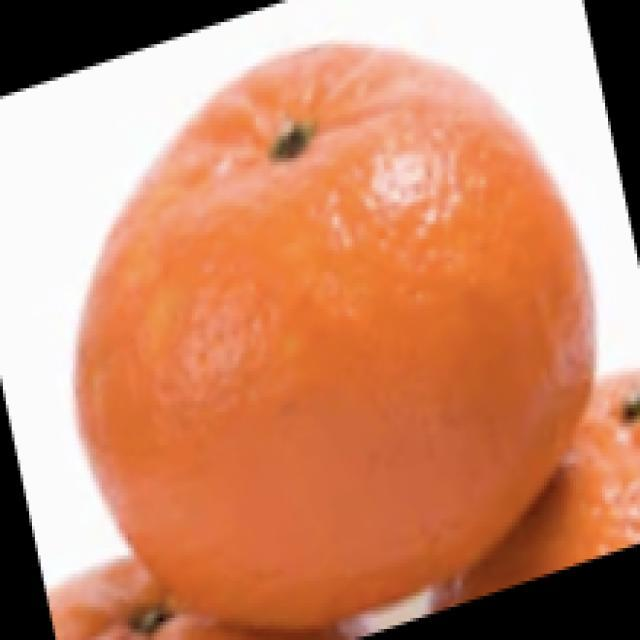matang: (77, 45, 592, 629)
